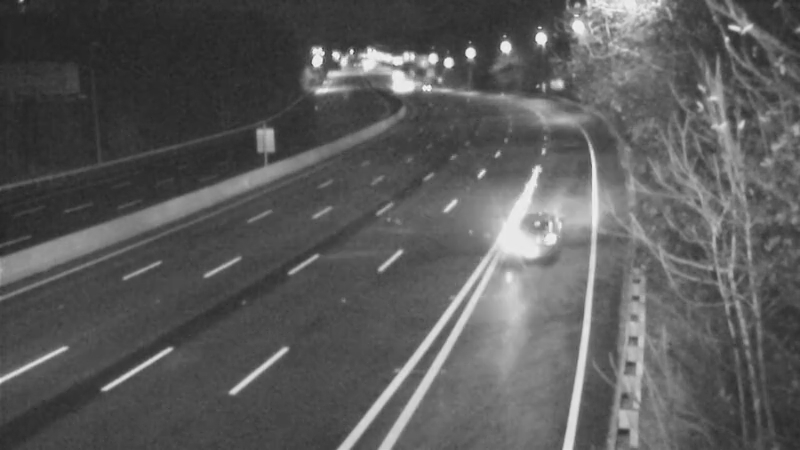vehicle: (492, 192, 572, 272), (402, 62, 452, 112)
